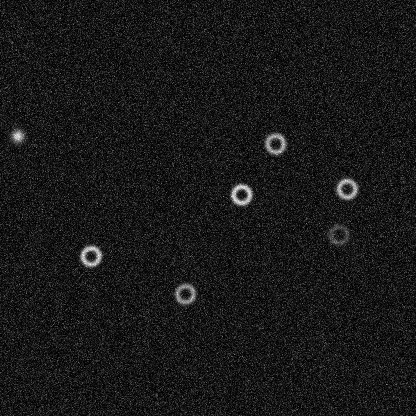Ring: (173, 281, 197, 305), (78, 243, 102, 267), (263, 131, 287, 155), (326, 222, 350, 246), (229, 182, 253, 206), (334, 176, 358, 200)
Spot: (9, 127, 25, 143)
